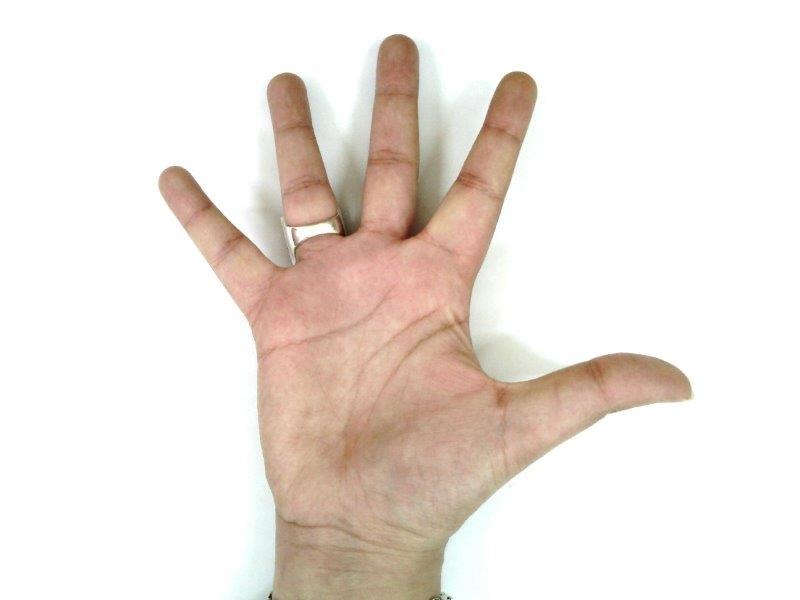hand: (156, 35, 694, 522)
